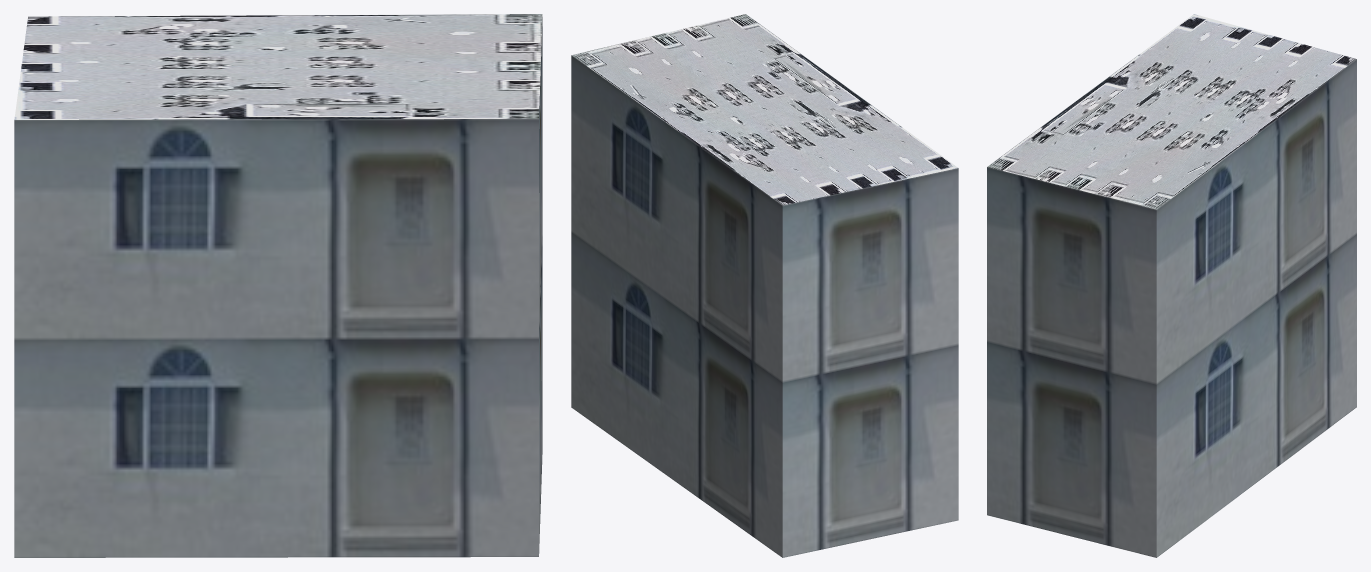
Rendered from ResTex__4955.fbx.
3 views of the same model, side by side, from view 1: azimuth 30°, elevation 25°; view 2: azimuth 150°, elevation 25°; view 3: azimuth 270°, elevation 25° (orthographic). The views are drawn at different scales.
Visible parts, largest first — view 1: CityEngineMaterial_17_m, CityEngineMaterial_2_m; view 2: CityEngineMaterial_17_m, CityEngineMaterial_2_m; view 3: CityEngineMaterial_17_m, CityEngineMaterial_2_m.
Part boxes in pixels (box(x1,y1,x2,y2)): CityEngineMaterial_17_m: box(14, 17, 542, 557); CityEngineMaterial_2_m: box(14, 14, 542, 119); CityEngineMaterial_17_m: box(571, 55, 958, 557); CityEngineMaterial_2_m: box(572, 14, 957, 205); CityEngineMaterial_17_m: box(987, 59, 1356, 557); CityEngineMaterial_2_m: box(987, 14, 1356, 209).
Size of the model in its own units: 7.23 by 6 by 5.78.
2 materials, 2 textured.
